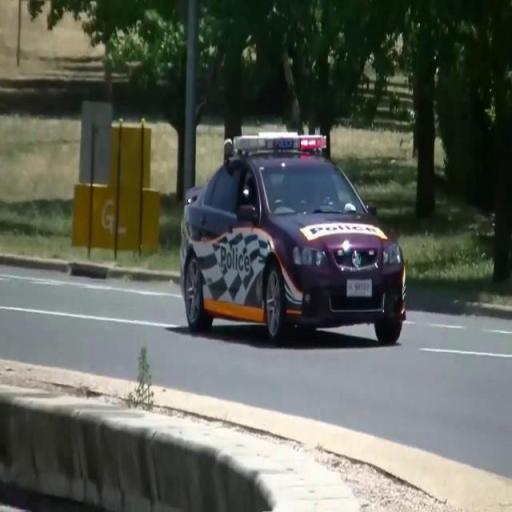Ambulance: (178, 128, 408, 347)
